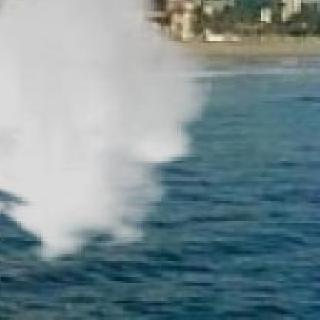smoke: (0, 0, 203, 264)
